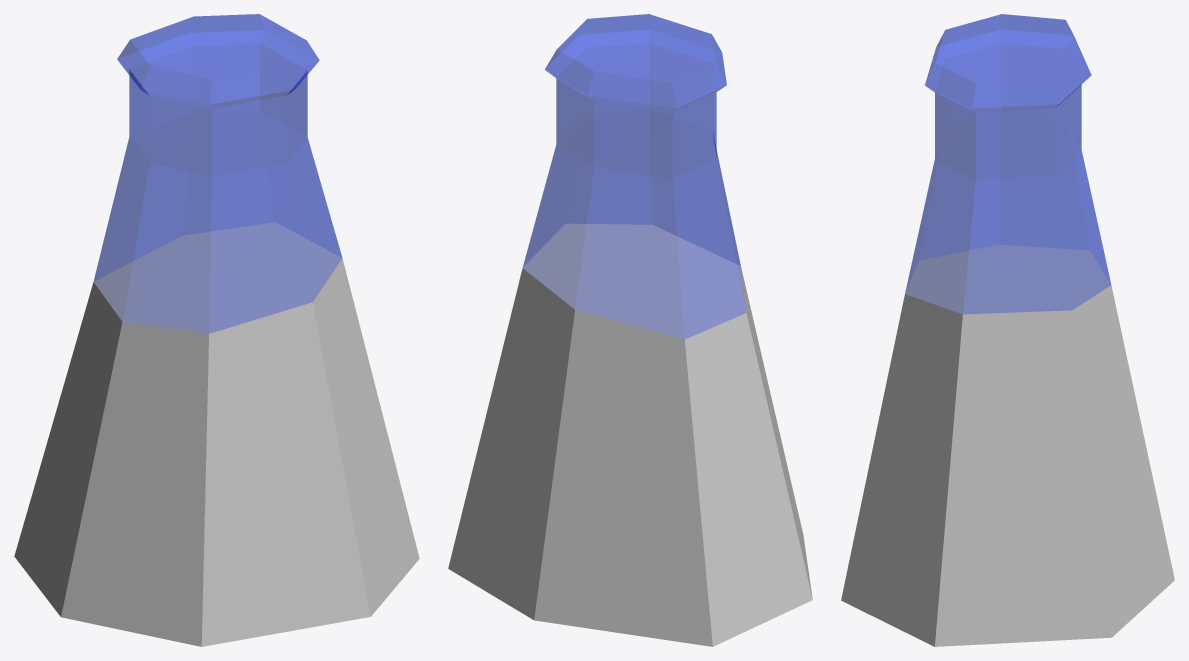
The model's file is beakerTest.fbx.
The picture shows the model from 3 angles, left to right: view 1: azimuth 30°, elevation 25°; view 2: azimuth 150°, elevation 25°; view 3: azimuth 270°, elevation 25°; orthographic projection.
Visible parts, largest first — view 1: Cylinder; view 2: Cylinder; view 3: Cylinder.
Part boxes in pixels (x1,y1,x2,y2): Cylinder: (14,14,419,646); Cylinder: (448,14,812,646); Cylinder: (841,14,1174,646).
Size of the model in its own units: 235 by 366 by 208.
